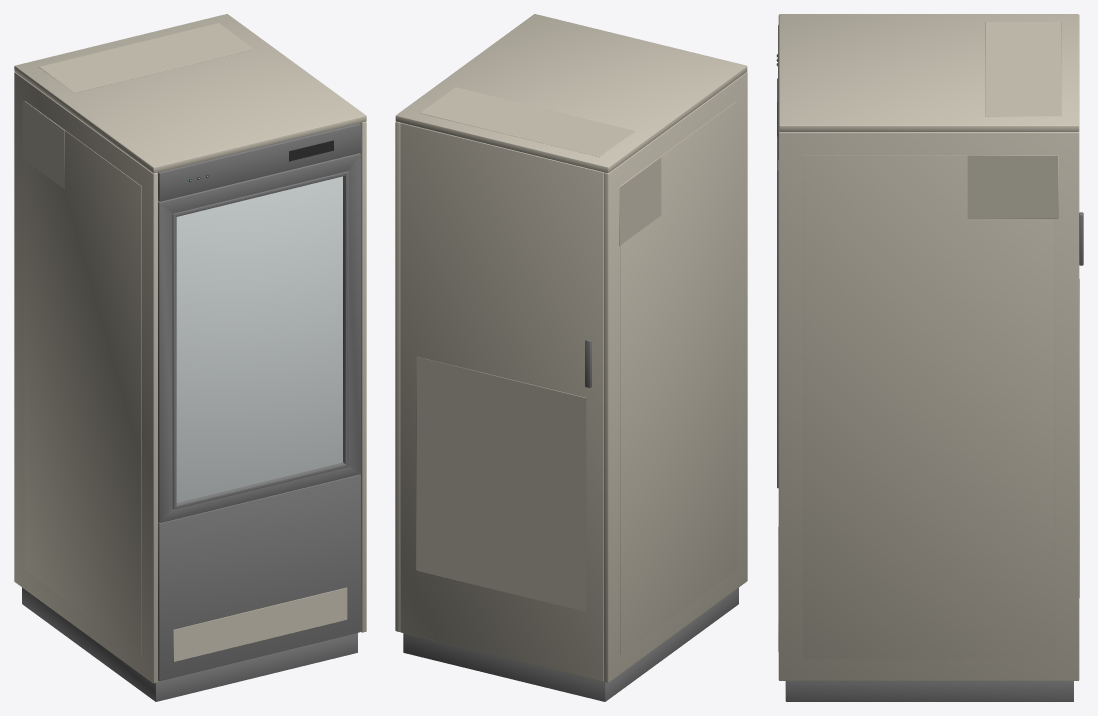
File: Kit_SystemCabinet_Disk_Charcoal.fbx
3 renders of one model, left to right at view 1: azimuth 30°, elevation 25°; view 2: azimuth 150°, elevation 25°; view 3: azimuth 270°, elevation 25°, orthographic. The views are drawn at different scales.
Parts seen in each view (by area): view 1: Kit_SystemCabinet_Disk_LOD0; view 2: Kit_SystemCabinet_Disk_LOD0; view 3: Kit_SystemCabinet_Disk_LOD0.
Part boxes in pixels (bbox=[...]): Kit_SystemCabinet_Disk_LOD0: bbox=[14, 14, 366, 701]; Kit_SystemCabinet_Disk_LOD0: bbox=[395, 14, 747, 701]; Kit_SystemCabinet_Disk_LOD0: bbox=[776, 14, 1083, 701].
Size of what is drawn, in the model's own units: 0.7671 by 1.83 by 0.8787.
